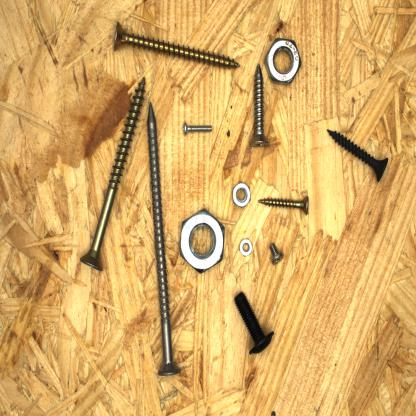screw: (77, 72, 149, 276), (145, 100, 184, 378), (111, 18, 242, 72), (324, 125, 392, 184), (230, 288, 276, 358), (244, 61, 274, 150), (256, 192, 312, 218), (180, 120, 214, 138), (267, 240, 286, 268)
